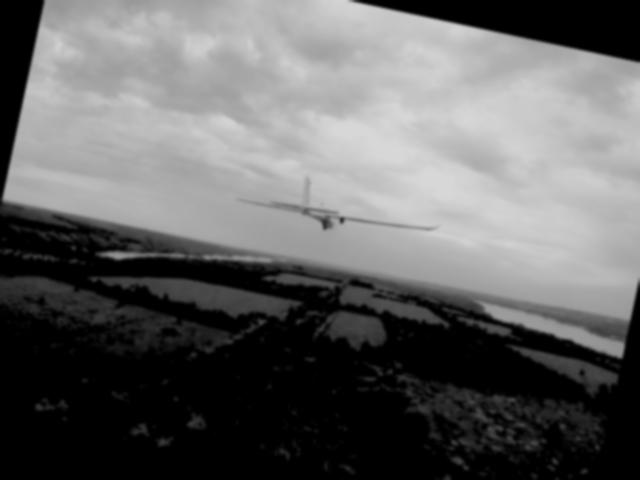hedef: (213, 158, 462, 278)
